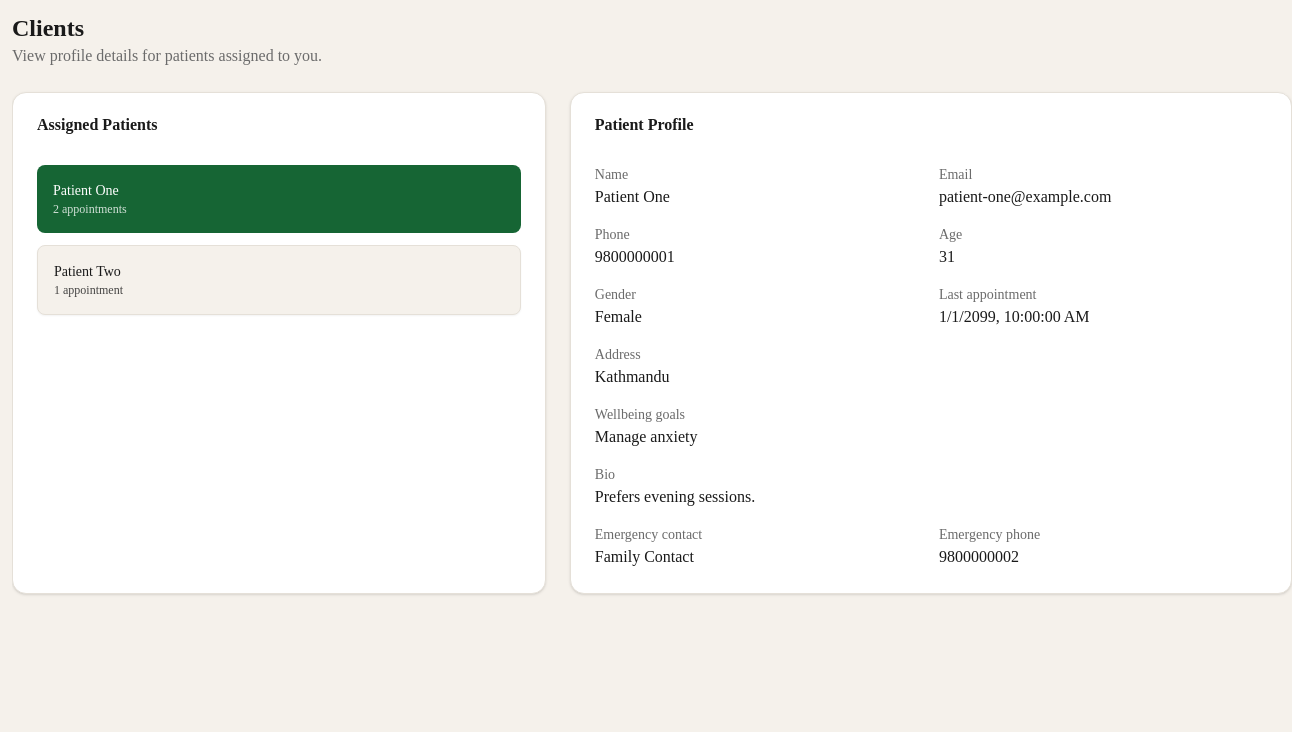
Test: Therapist clients page › shows assigned patient profile details
The image size is (1292, 732).
expect the text "Patient One" is shown 2 times: met, box [53,181,127,201]; [595,188,670,205]
expect the text "patient-one@example.com" is shown: met, box [939,188,1111,205]
Click the button "Patient Two 1 appointment" at point(87, 272), box [37,245,521,315]
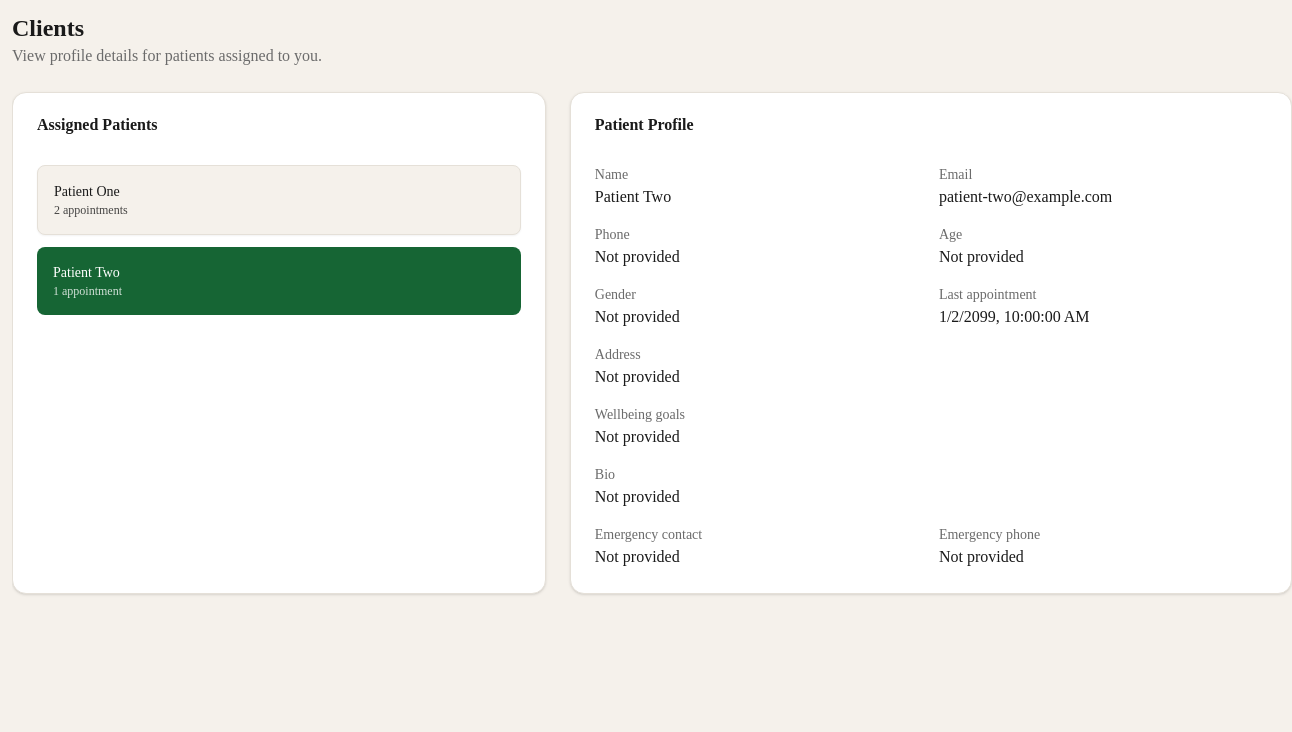
expect the text "patient-two@example.com" is shown: met, box [939,188,1112,205]
